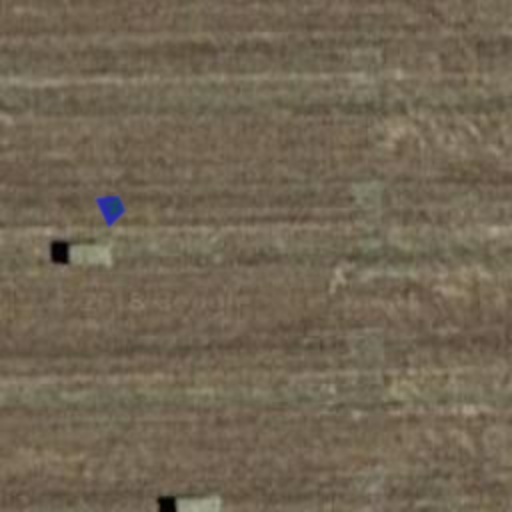trapezoid: (88, 184, 136, 232)
